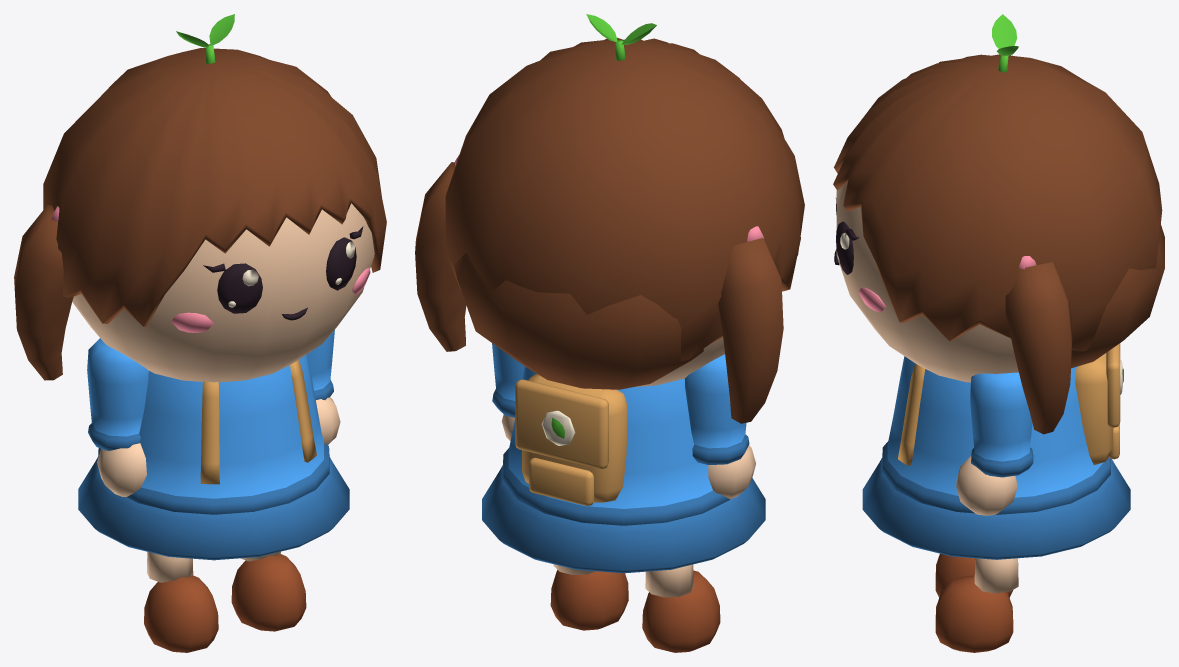
The model's file is hero-girl.glb.
3 renders of one model, left to right at view 1: azimuth 30°, elevation 25°; view 2: azimuth 150°, elevation 25°; view 3: azimuth 270°, elevation 25°, orthographic. The views are drawn at different scales.
Parts seen in each view (by area): view 1: head, body, arm-left, leg-left, leg-right, arm-right, head-leaf; view 2: head, body, arm-left, leg-left, leg-right, arm-right, head-leaf; view 3: head, body, arm-right, leg-right, leg-left, head-leaf.
Part boxes in pixels (bbox=[...]): head: bbox=[14, 48, 386, 382]; body: bbox=[78, 354, 349, 560]; arm-left: bbox=[87, 338, 148, 496]; leg-left: bbox=[144, 552, 218, 652]; leg-right: bbox=[231, 551, 306, 631]; arm-right: bbox=[307, 330, 340, 444]; head-leaf: bbox=[176, 14, 234, 63]; head: bbox=[415, 37, 804, 423]; body: bbox=[482, 366, 765, 573]; arm-left: bbox=[685, 354, 755, 499]; leg-left: bbox=[642, 564, 720, 652]; leg-right: bbox=[550, 564, 628, 630]; arm-right: bbox=[492, 343, 524, 440]; head-leaf: bbox=[586, 14, 656, 60]; head: bbox=[833, 54, 1164, 434]; body: bbox=[862, 343, 1130, 559]; arm-right: bbox=[956, 372, 1033, 515]; leg-right: bbox=[935, 558, 1018, 652]; leg-left: bbox=[935, 553, 1012, 597]; head-leaf: bbox=[992, 14, 1018, 72].
Bounding box in the file's own units: 1.44 × 2.35 × 1.19.
